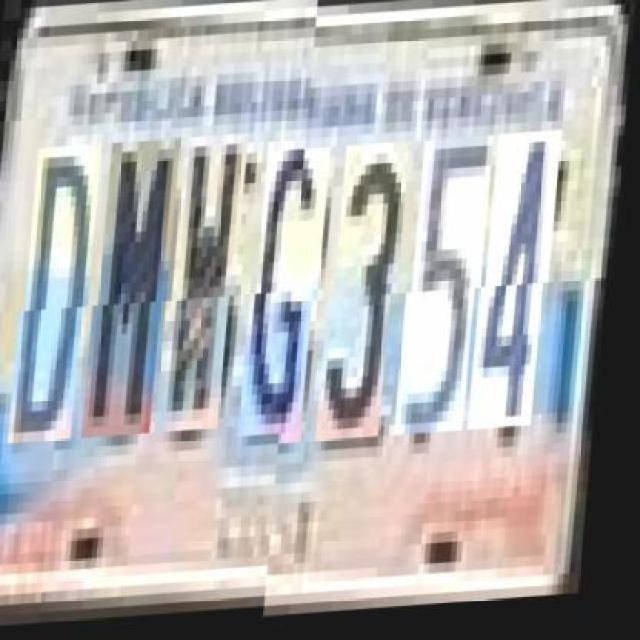3: (329, 148, 413, 446)
4: (481, 138, 565, 437)
5: (408, 143, 497, 442)
d: (20, 155, 105, 454)
g: (251, 152, 334, 451)
m: (94, 152, 183, 450)
w: (167, 147, 251, 445)
